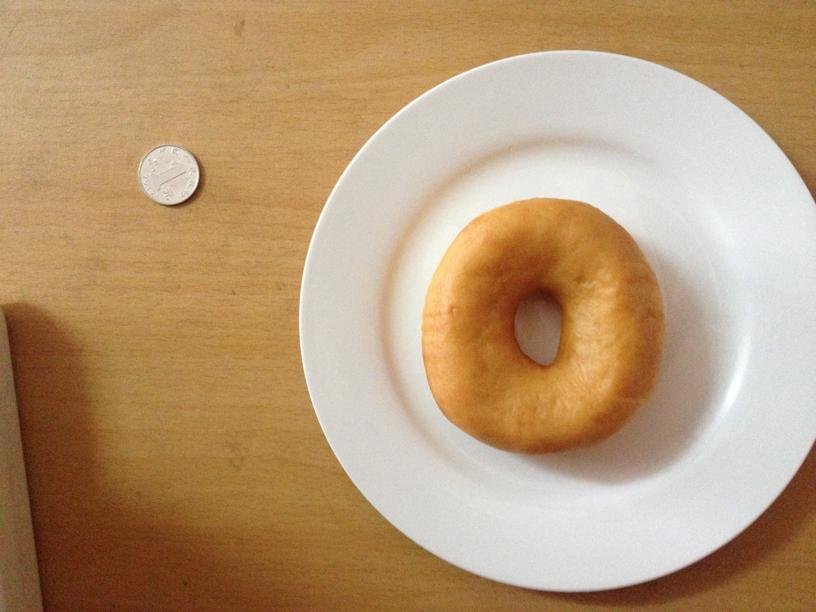coin: (137, 145, 201, 206)
doughnut: (420, 197, 664, 456)
